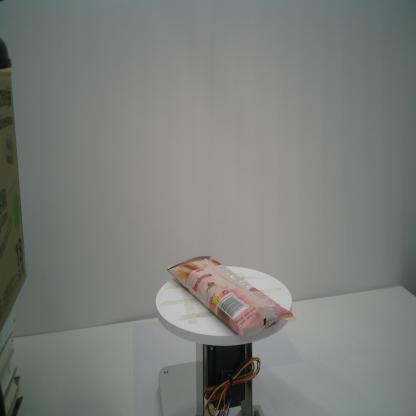Dessert: (165, 254, 299, 341)
